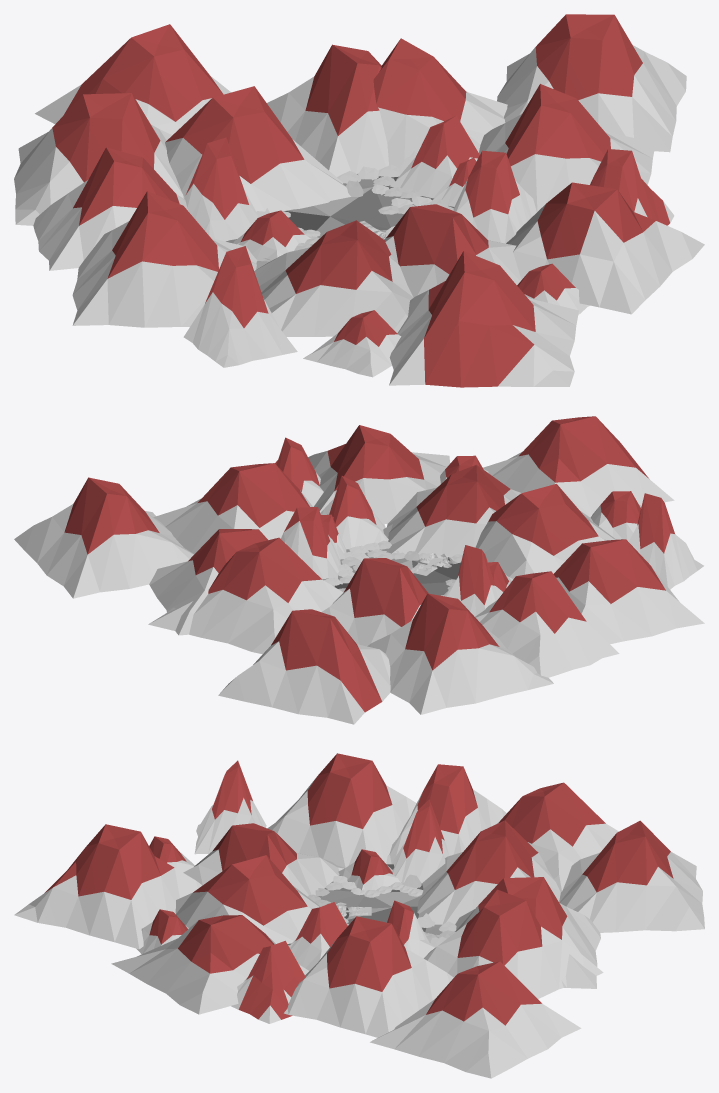
Rendered from ground_mountains.fbx.
The picture shows the model from 3 angles, top to bottom: view 1: azimuth 30°, elevation 25°; view 2: azimuth 150°, elevation 25°; view 3: azimuth 270°, elevation 25°; orthographic projection. The views are drawn at different scales.
Parts seen in each view (by area): view 1: ground_mountains; view 2: ground_mountains; view 3: ground_mountains.
Part boxes in pixels (bbox=[...]): ground_mountains: bbox=[14, 14, 704, 387]; ground_mountains: bbox=[14, 416, 704, 724]; ground_mountains: bbox=[14, 753, 704, 1078].
Bounding box in the file's own units: 1494 × 195 × 1512.
